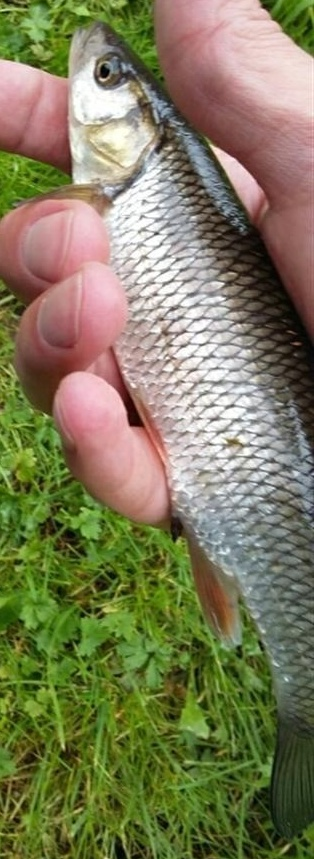Leuciscus cephalus: (20, 20, 314, 839)
